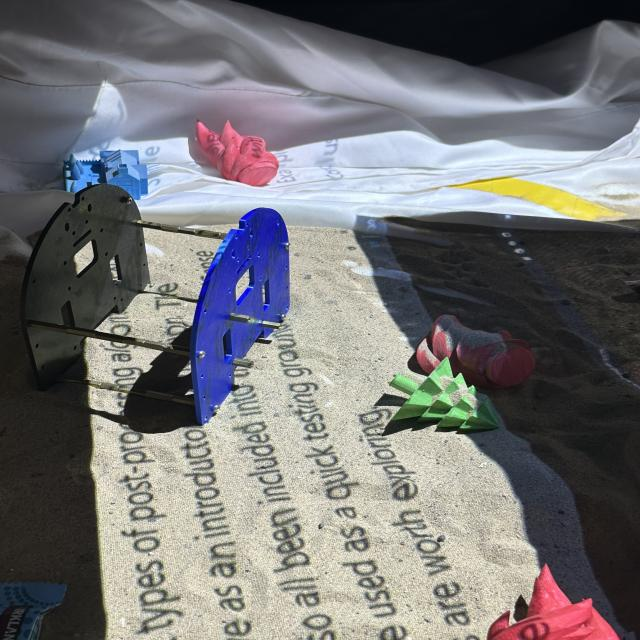fire: (487, 563, 622, 639), (412, 316, 538, 380), (195, 119, 280, 187)
house: (62, 148, 149, 201)
tree: (387, 360, 507, 433)
